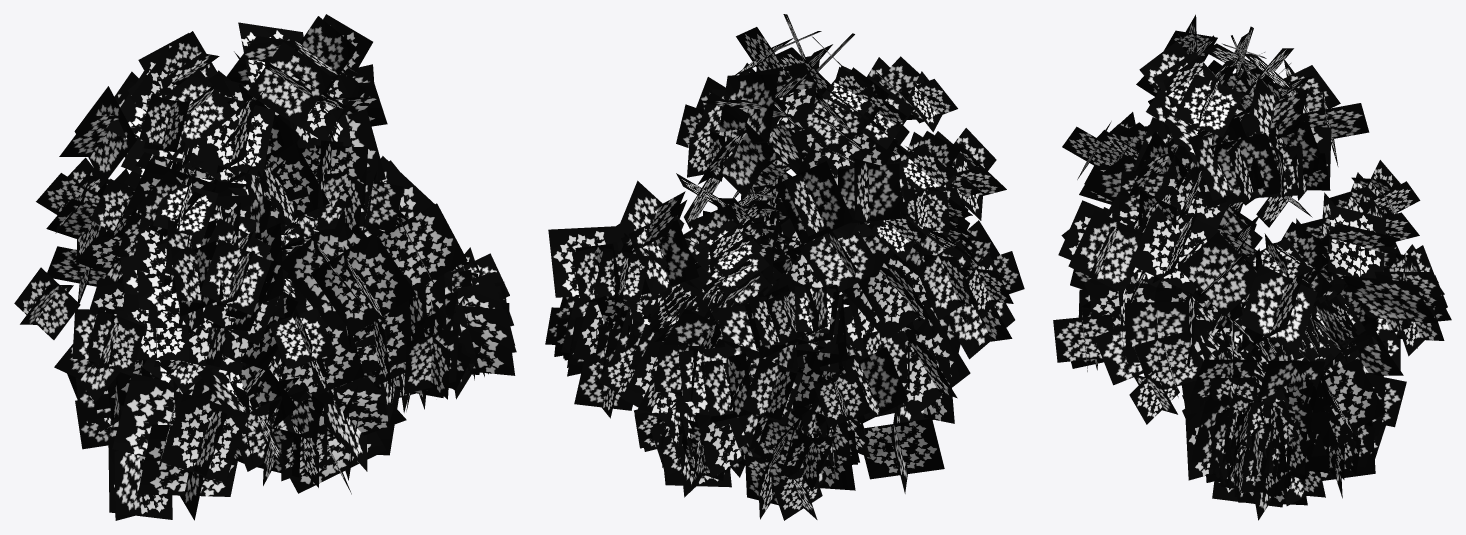
File: envTree_Leaves_01.fbx
The picture shows the model from 3 angles, left to right: view 1: azimuth 30°, elevation 25°; view 2: azimuth 150°, elevation 25°; view 3: azimuth 270°, elevation 25°; orthographic projection. The views are drawn at different scales.
Parts seen in each view (by area): view 1: envTree_Leaves_01; view 2: envTree_Leaves_01; view 3: envTree_Leaves_01.
Part boxes in pixels (x1,y1,x2,y2): envTree_Leaves_01: (14,14,516,520); envTree_Leaves_01: (545,14,1024,520); envTree_Leaves_01: (1053,14,1451,520).
Size of the model in its own units: 394 by 403 by 333.
1 material, 1 textured.
